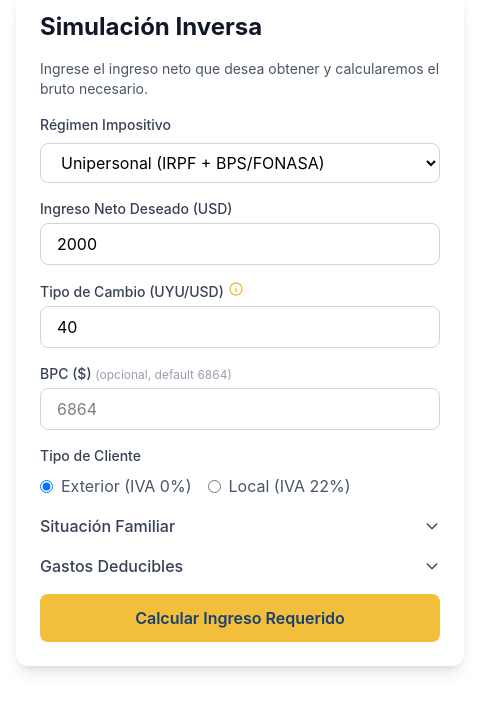
Test: ReverseSim — Validation › should show validation error when exchange rate is empty
This screenshot has width=481, height=707.
ExchangeRateField doesn't use htmlFor, so use placeholder to find it
Clear the field with placeholder "39.5" below "Tipo de Cambio (UYU/USD)" at (240,327), box [40, 306, 440, 348]
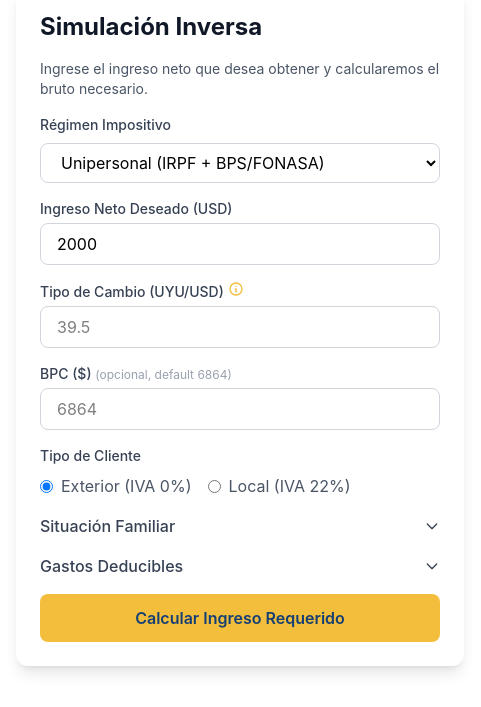
Click the button "Calcular Ingreso Requerido" at (240,618), box [40, 594, 440, 642]
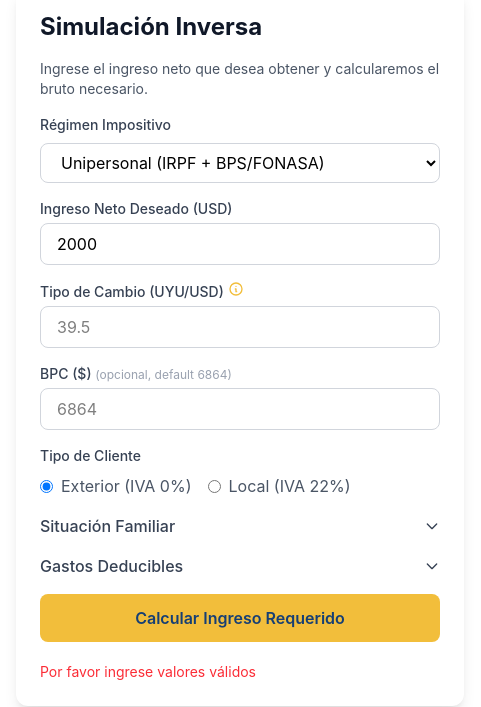
Expected: the text "Por favor ingrese valores válidos" is shown, [40, 663, 256, 680]
